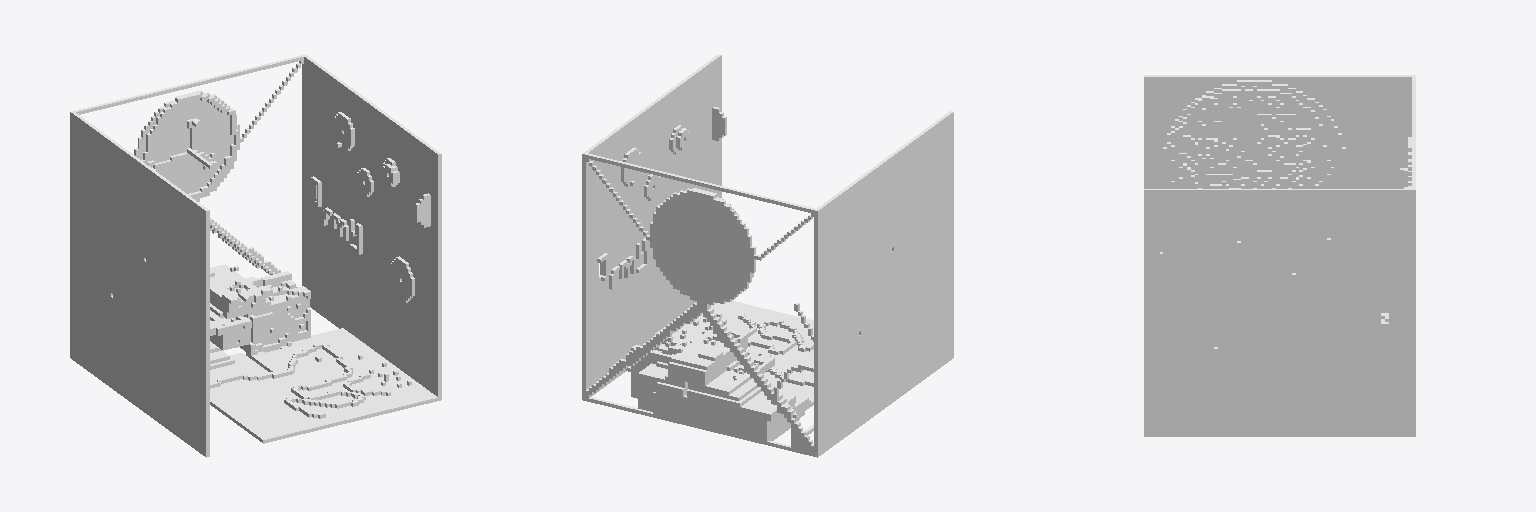
The model's file is armysmile.obj.
3 renders of one model, left to right at view 1: azimuth 30°, elevation 25°; view 2: azimuth 150°, elevation 25°; view 3: azimuth 270°, elevation 25°, orthographic.
Visible parts, largest first — view 1: object 1; view 2: object 1; view 3: object 1.
Boxes of the visible parts, x1,y1,x2,y2 form: object 1: [70, 54, 441, 457]; object 1: [582, 54, 953, 457]; object 1: [1144, 75, 1415, 436].
Size of the model in its own units: 7 by 7 by 7.